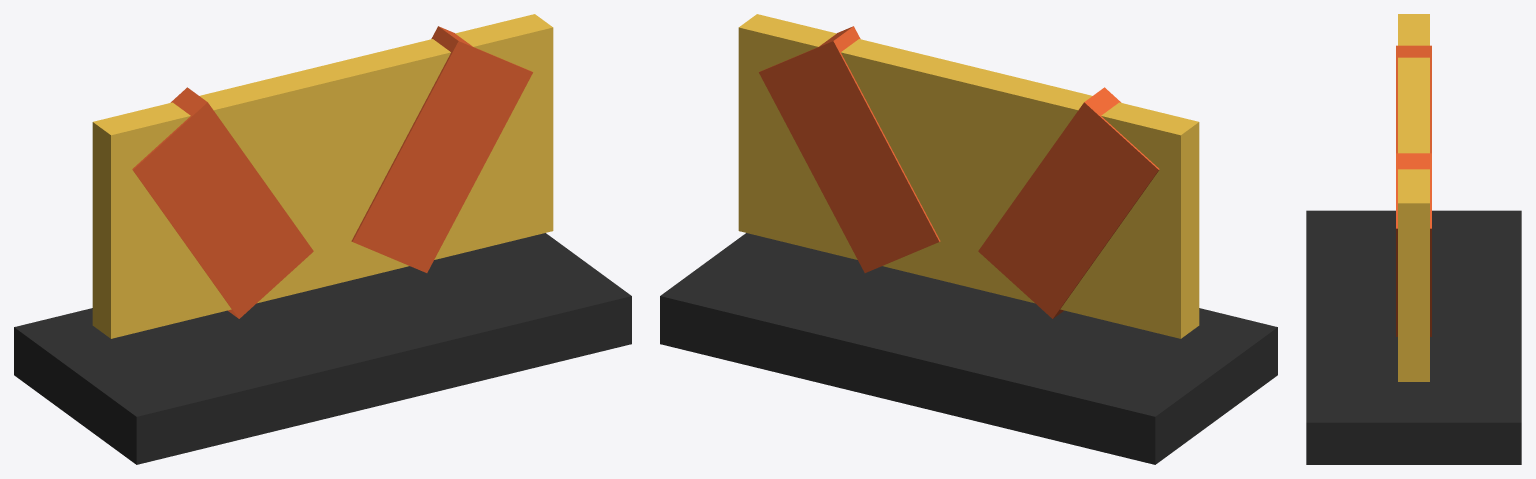
The model's file is obstacle-roadblock.gltf.
The picture shows the model from 3 angles, left to right: view 1: azimuth 30°, elevation 25°; view 2: azimuth 150°, elevation 25°; view 3: azimuth 270°, elevation 25°; orthographic projection. The views are drawn at different scales.
Size of the model in its own units: 2.8 by 1.6 by 1.2.
